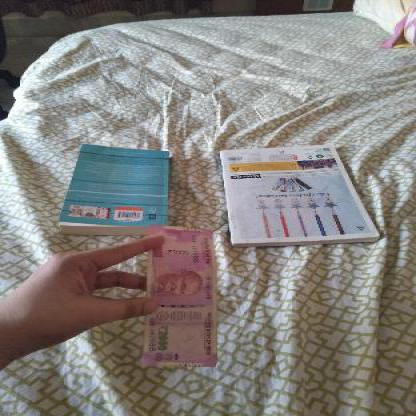New2000Front: (146, 223, 214, 368)
